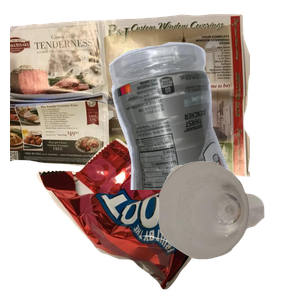glass: (156, 159, 300, 300)
paper: (10, 11, 250, 180)
plastic: (106, 40, 300, 220)
trash: (34, 136, 253, 300)
